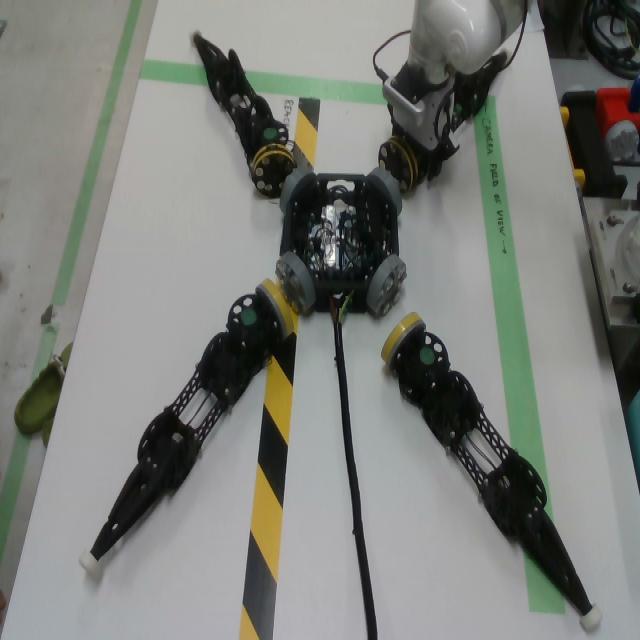body: (280, 173, 398, 315)
body_connector: (365, 255, 407, 320), (275, 252, 316, 317), (367, 168, 403, 216), (280, 168, 315, 215)
gripper: (386, 77, 459, 183)
leg: (380, 312, 603, 633), (79, 276, 294, 573), (188, 27, 295, 197), (451, 47, 513, 132), (378, 132, 427, 193)
leg_connector: (251, 144, 296, 199), (255, 279, 294, 340), (378, 136, 418, 195)
leg_marker: (241, 308, 256, 325), (264, 128, 277, 139)
